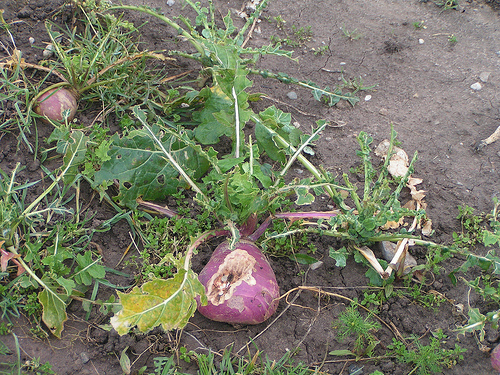turnip: (193, 234, 280, 326), (36, 89, 78, 121)
